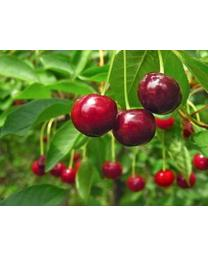cherry: (70, 94, 118, 137), (138, 71, 181, 115), (113, 109, 156, 146)
